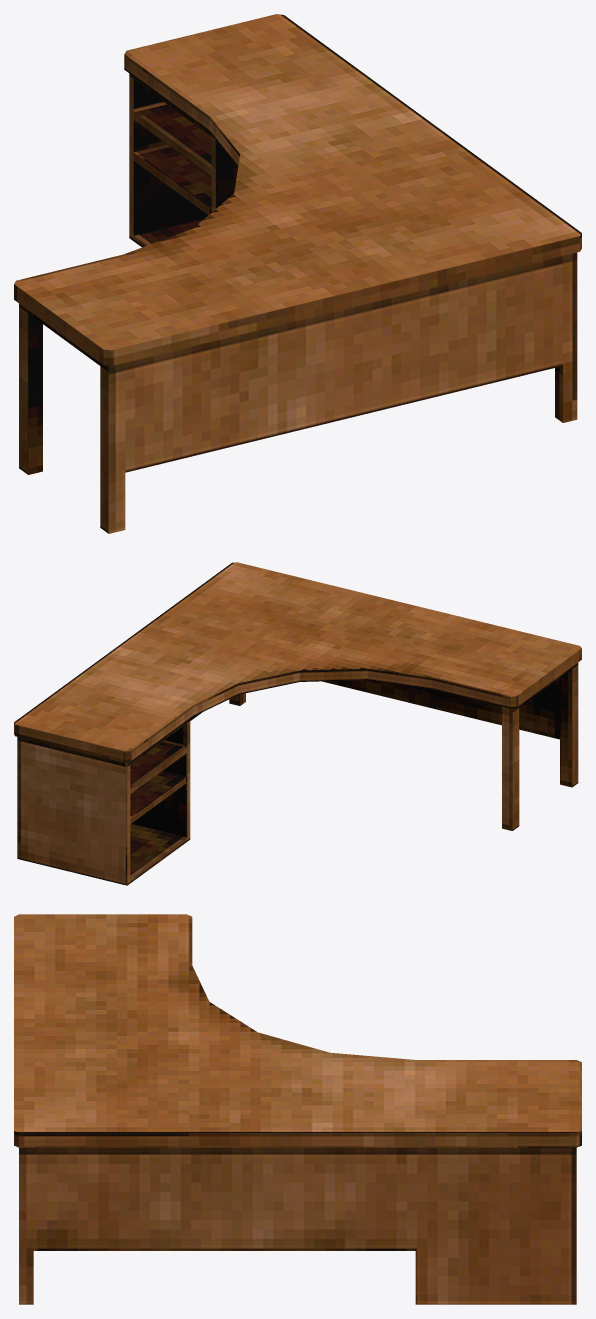
The model's file is SM_OfficeDesk.fbx.
3 views of the same model, one above another, from view 1: azimuth 30°, elevation 25°; view 2: azimuth 150°, elevation 25°; view 3: azimuth 270°, elevation 25° (orthographic). The views are drawn at different scales.
Visible parts, largest first — view 1: SM_OfficeDesk; view 2: SM_OfficeDesk; view 3: SM_OfficeDesk.
Part boxes in pixels (<box>): SM_OfficeDesk: <box>14,14,581,533</box>; SM_OfficeDesk: <box>14,562,581,885</box>; SM_OfficeDesk: <box>14,914,581,1304</box>.
Bounding box in the file's own units: 202 × 75 × 222.
